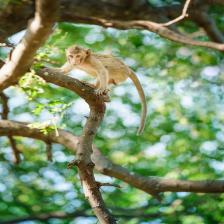monkey: (52, 29, 158, 108)
